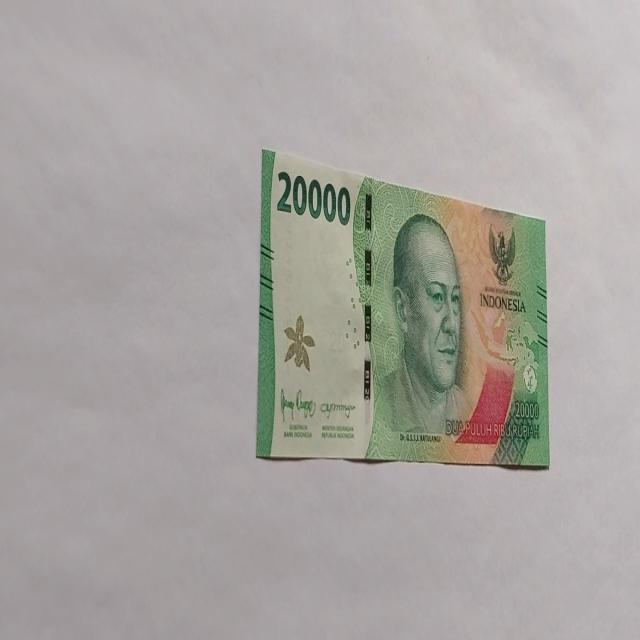dua puluh ribu rupiah: (256, 147, 550, 470)
